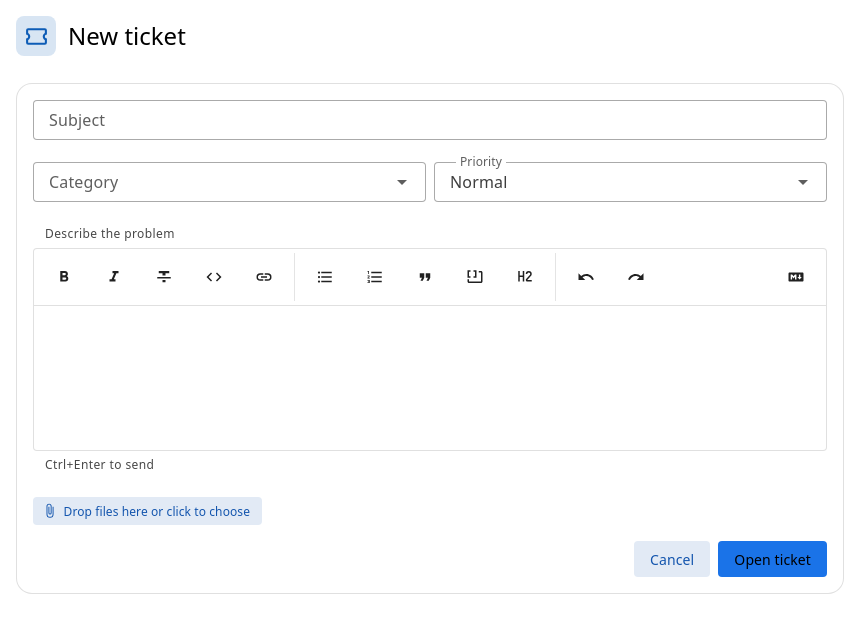
Test: portal new ticket (FE-016) › a 422 from the server shows on the subject field
Type "Printer" into the field labelled "Subject".
click(430, 120); type("Printer")  # box [33,100,827,140]
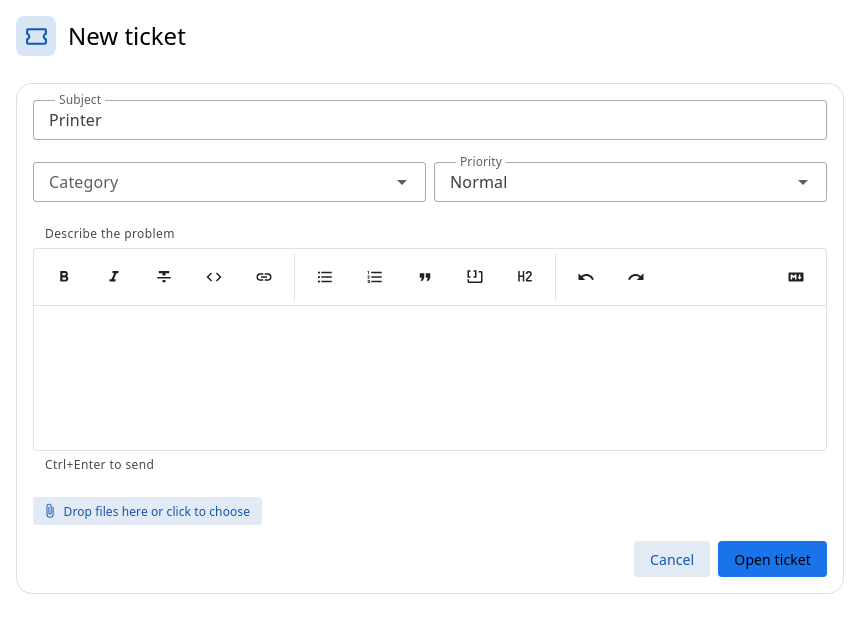
Click the button named "Markdown".
click(796, 277)  # box [776,257,816,297]
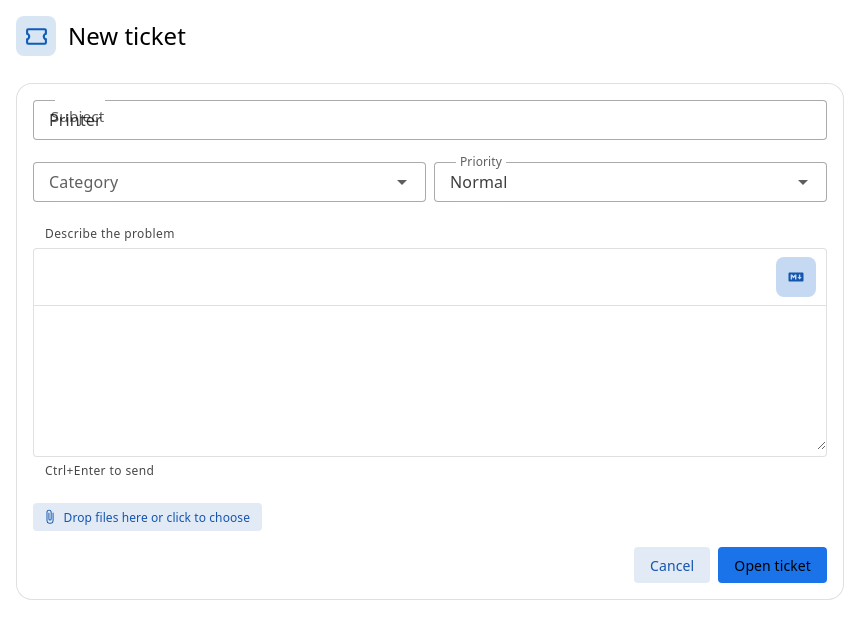
Type "It is broken" into the text box named "Describe the problem".
click(430, 378); type("It is broken")  # box [34,306,826,450]
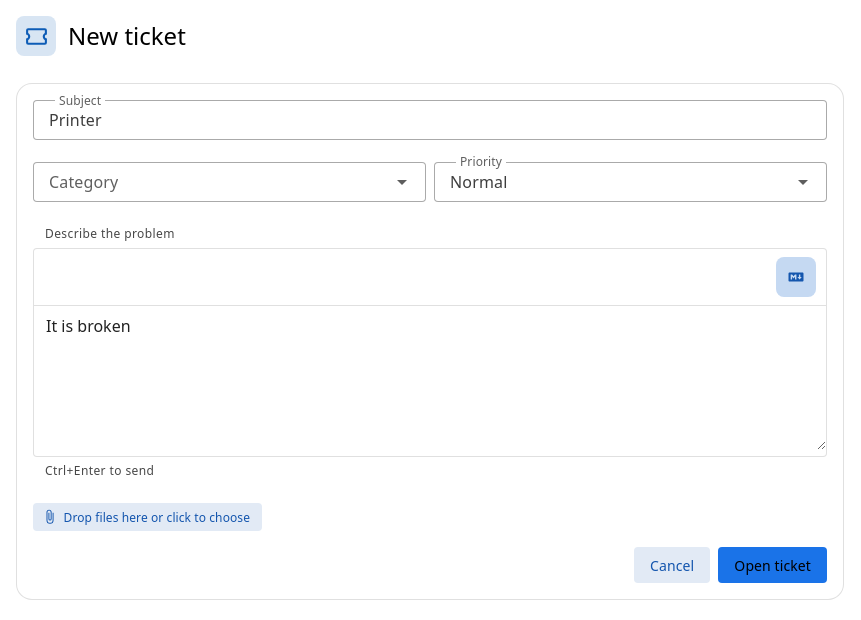
Submit the form with test id "new-ticket-form"
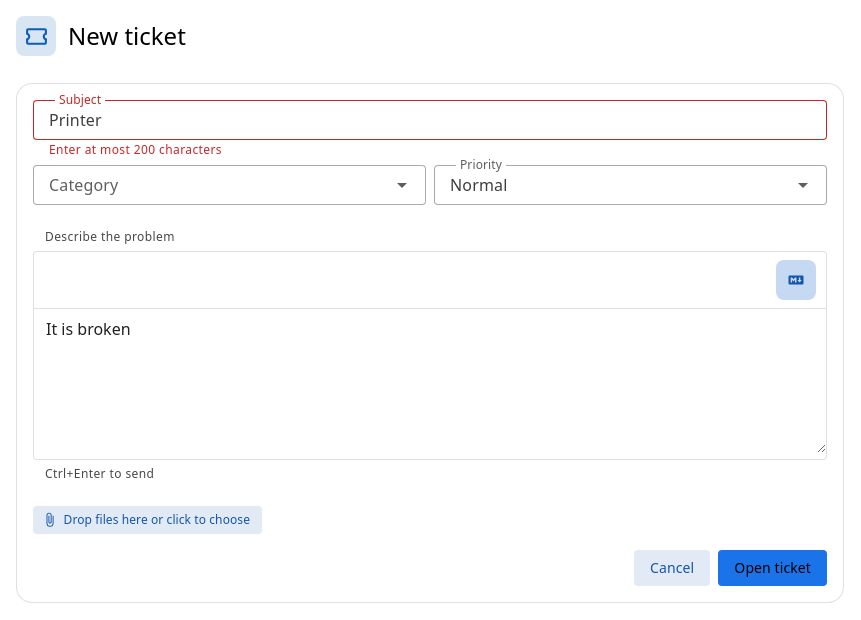
Expected: the element with test id "nt-subject" shows "Enter at most 200 characters", [49,141,222,158]
